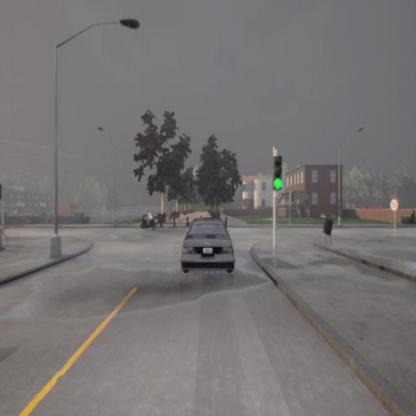motobike: (139, 210, 157, 230)
traffic_light_green: (273, 154, 283, 189)
vehicle: (180, 219, 235, 274)
